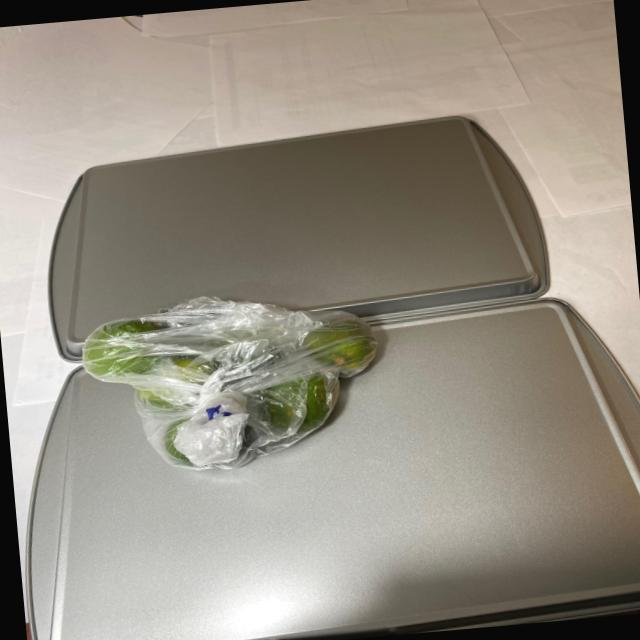lemon: (84, 300, 387, 476)
